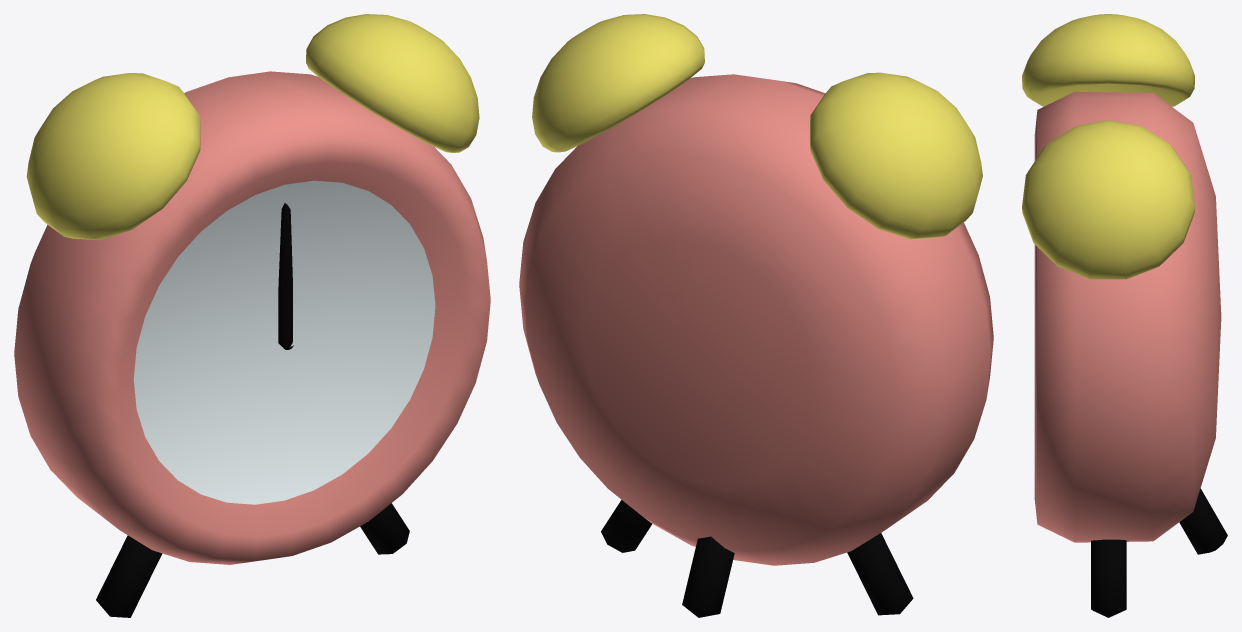
The model's file is xd_reloj.fbx.
3 renders of one model, left to right at view 1: azimuth 30°, elevation 25°; view 2: azimuth 150°, elevation 25°; view 3: azimuth 270°, elevation 25°, orthographic. The views are drawn at different scales.
Parts seen in each view (by area): view 1: reloj, Ponteiro Longo; view 2: reloj; view 3: reloj.
Part boxes in pixels (x1,y1,x2,y2): reloj: (14,14,490,617); Ponteiro Longo: (278,203,292,347); reloj: (519,14,993,617); reloj: (1022,14,1227,617).
Size of the model in its own units: 1.79 by 0.8188 by 2.11.
